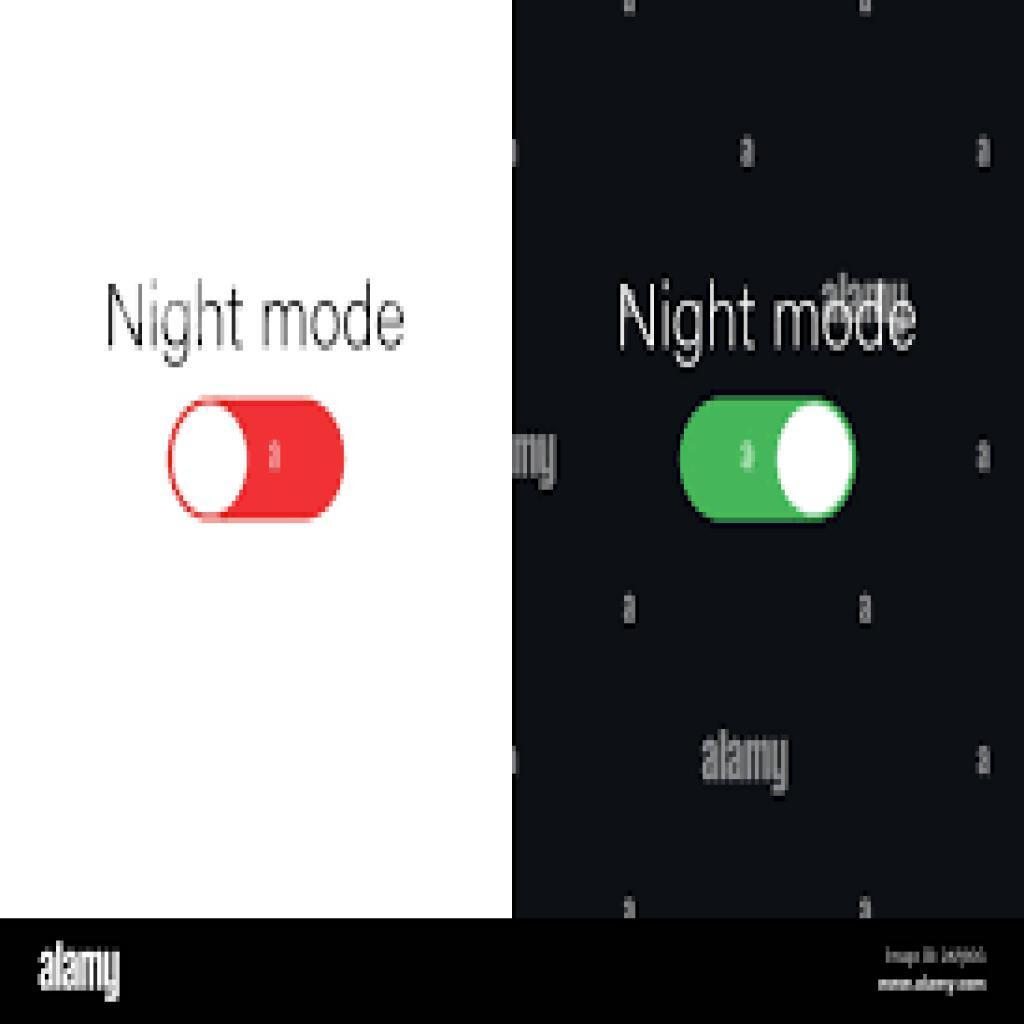switch: (679, 397, 860, 525), (167, 399, 346, 523)
